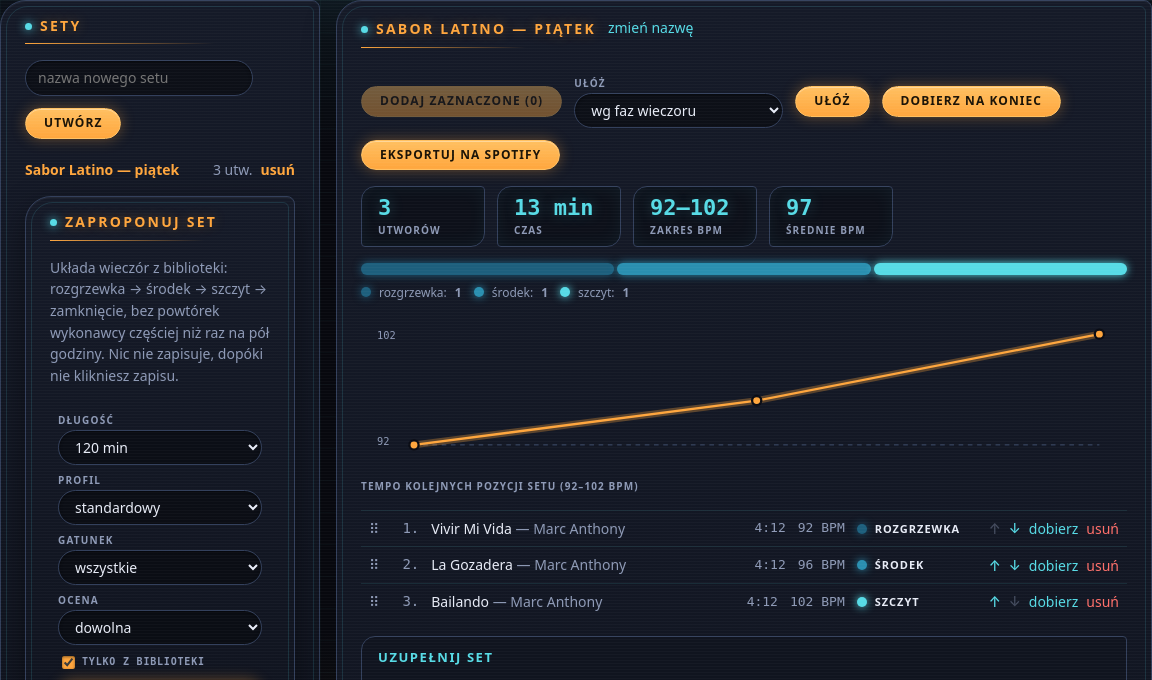
Test: SetsRoute — układanie i domykanie setu › tryb układania decyduje o kolejności wysłanej do API (M4.5)
The image size is (1152, 680).
expect the list with test id "set-list" is shown: met, box [361,510,1127,620]
Step 1. Select "wg narastającego tempa" in the dropdown with test id "arrange-mode" → (679, 110), box [574,93,783,128]
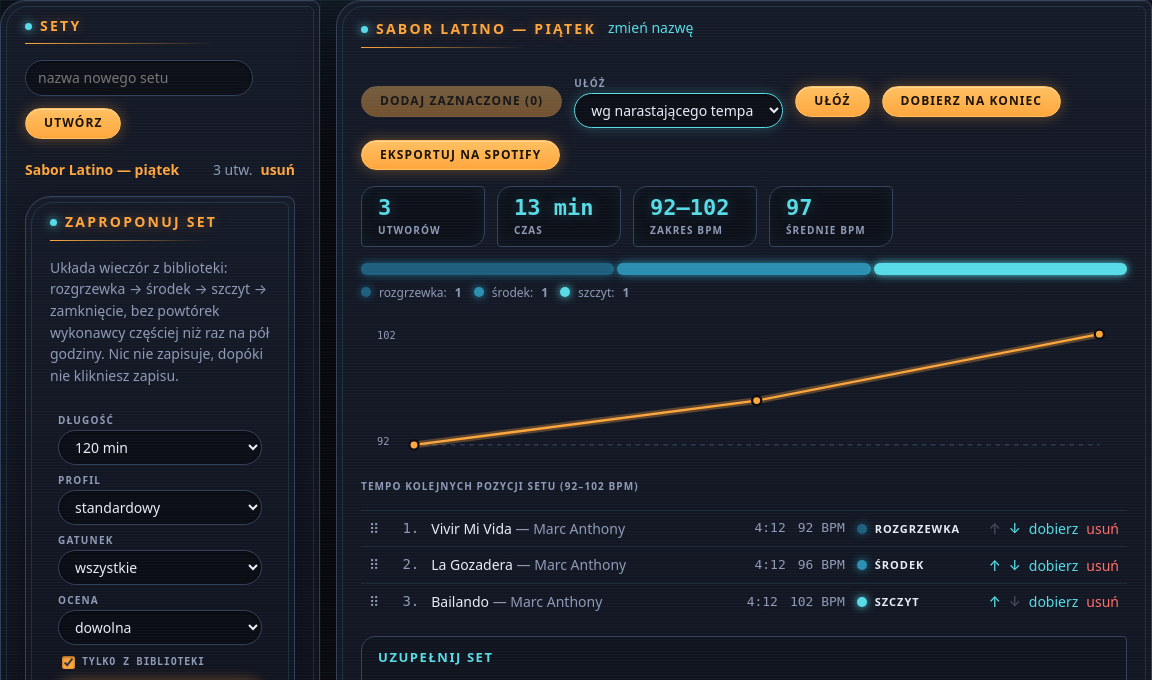
Step 2. Click the button with test id "playlist-arrange" → (832, 102), box [795,86,870,117]
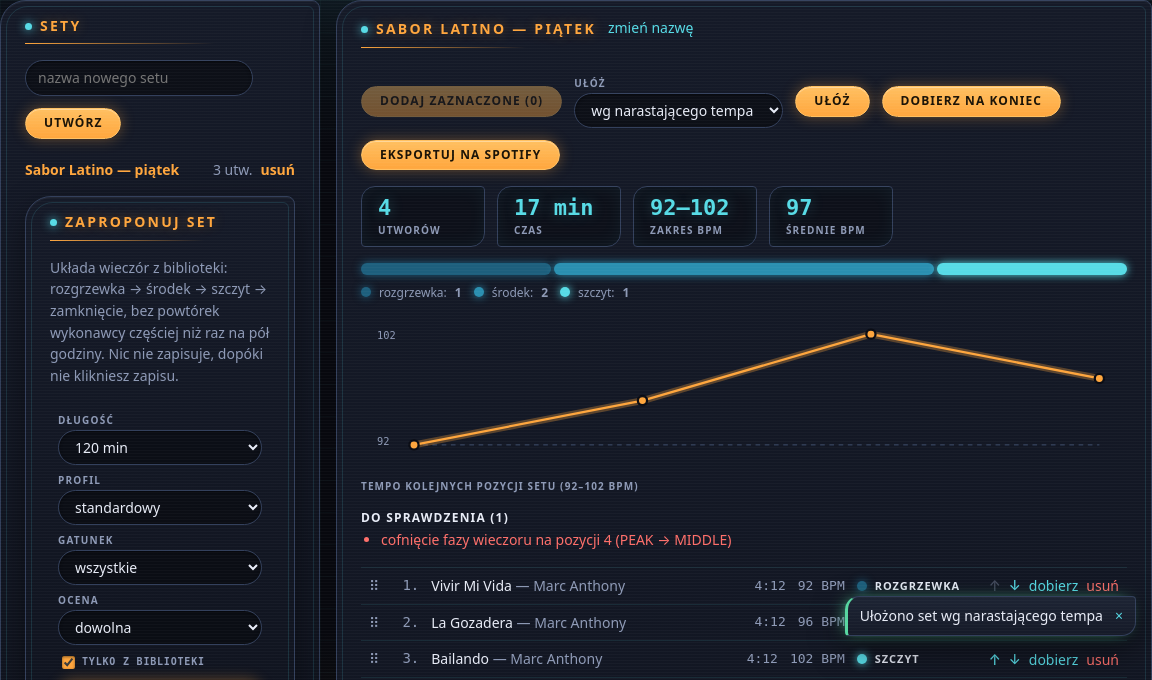
expect the text "Ułożono set wg narastającego tempa" is shown: met, box [860,605,1103,627]
